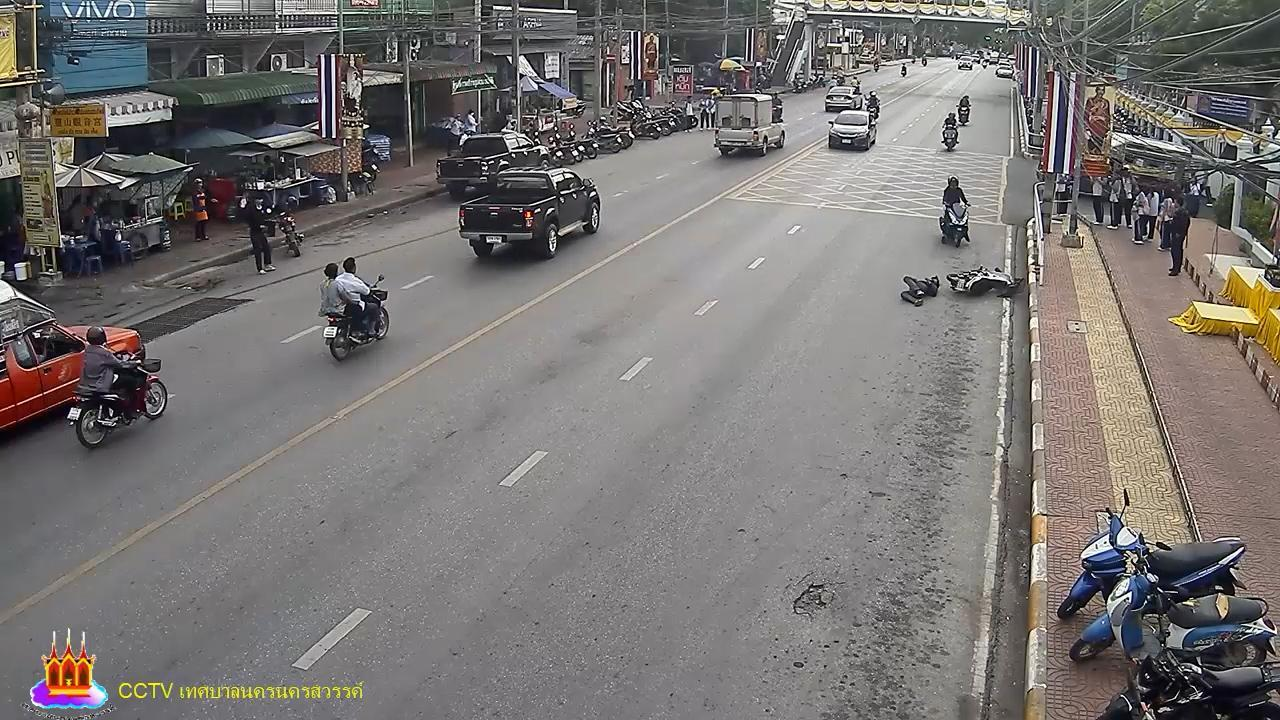accident: (900, 271, 944, 309)
